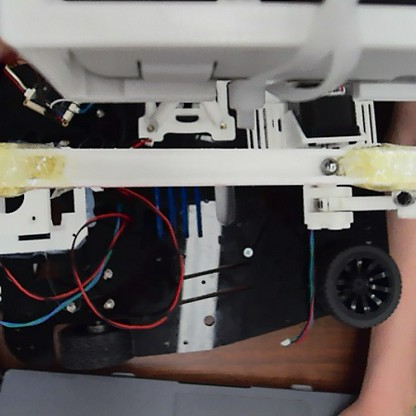ironball: (317, 155, 339, 176)
